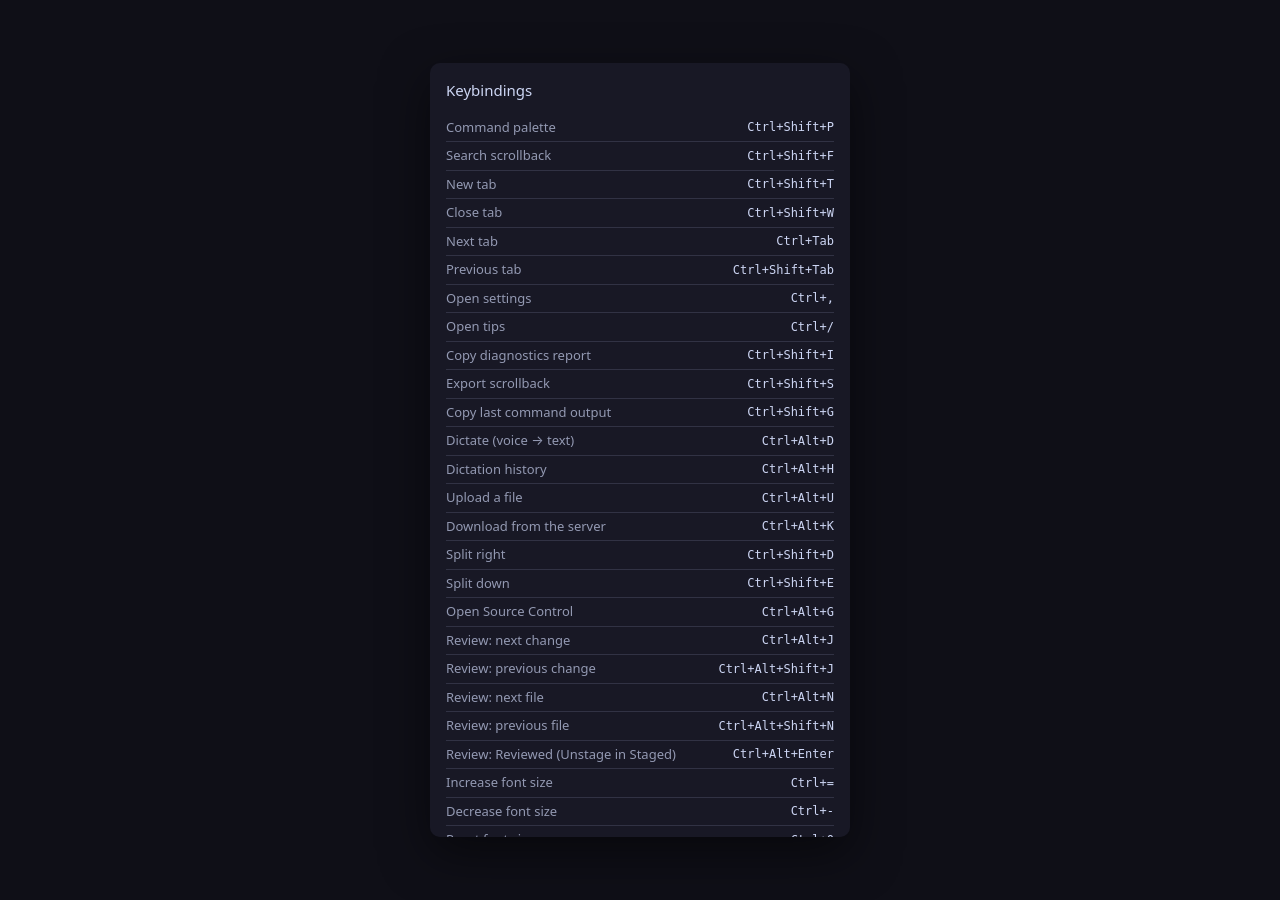
Test case: KeybindingsPanel › rebinds an action to a captured chord and persists it
Click the button with test id "kb-rebind-newTab": [791, 184] box [747,175,834,193]
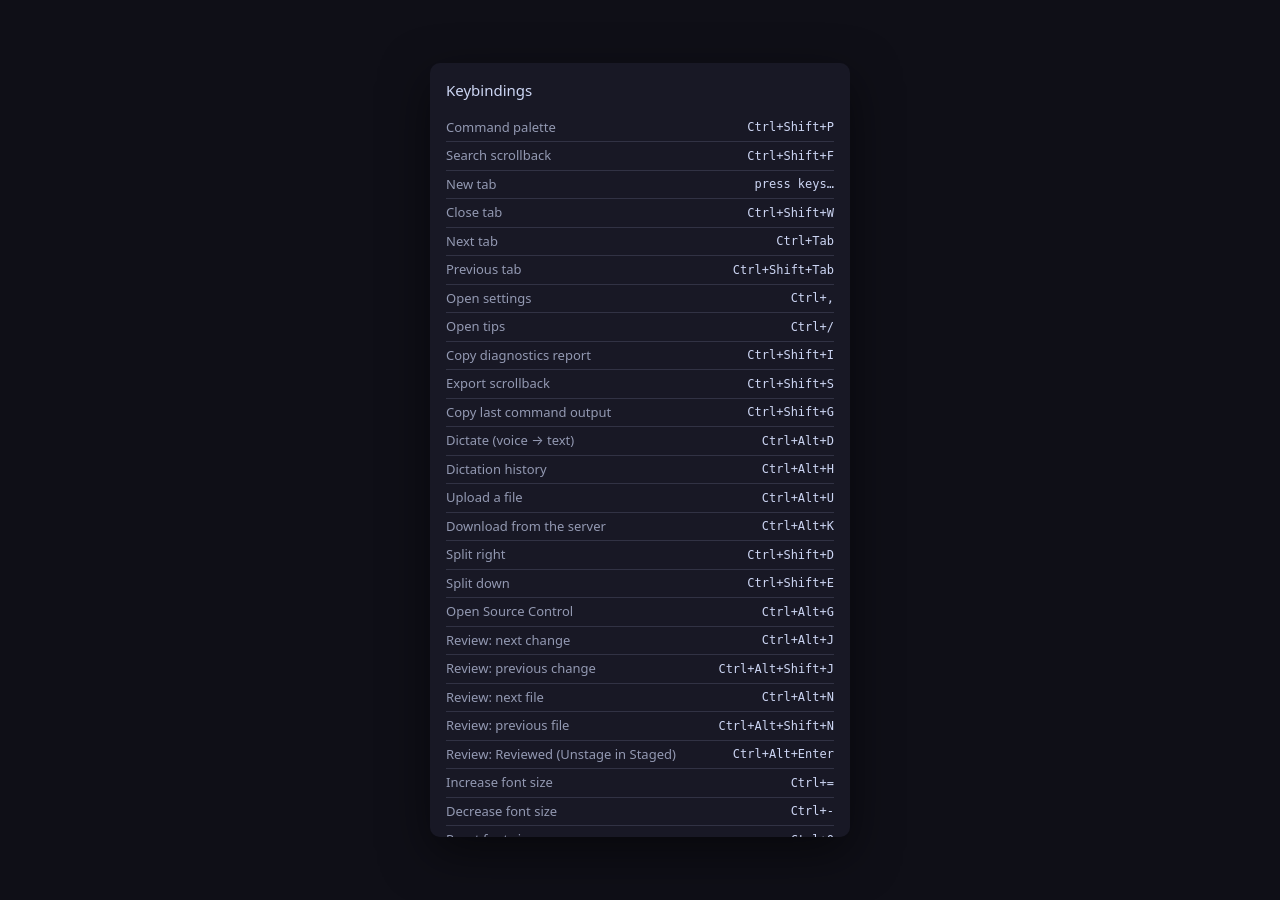
Check: the button with test id "kb-rebind-newTab" reads "press keys…", box [754,175,834,193]
Press y
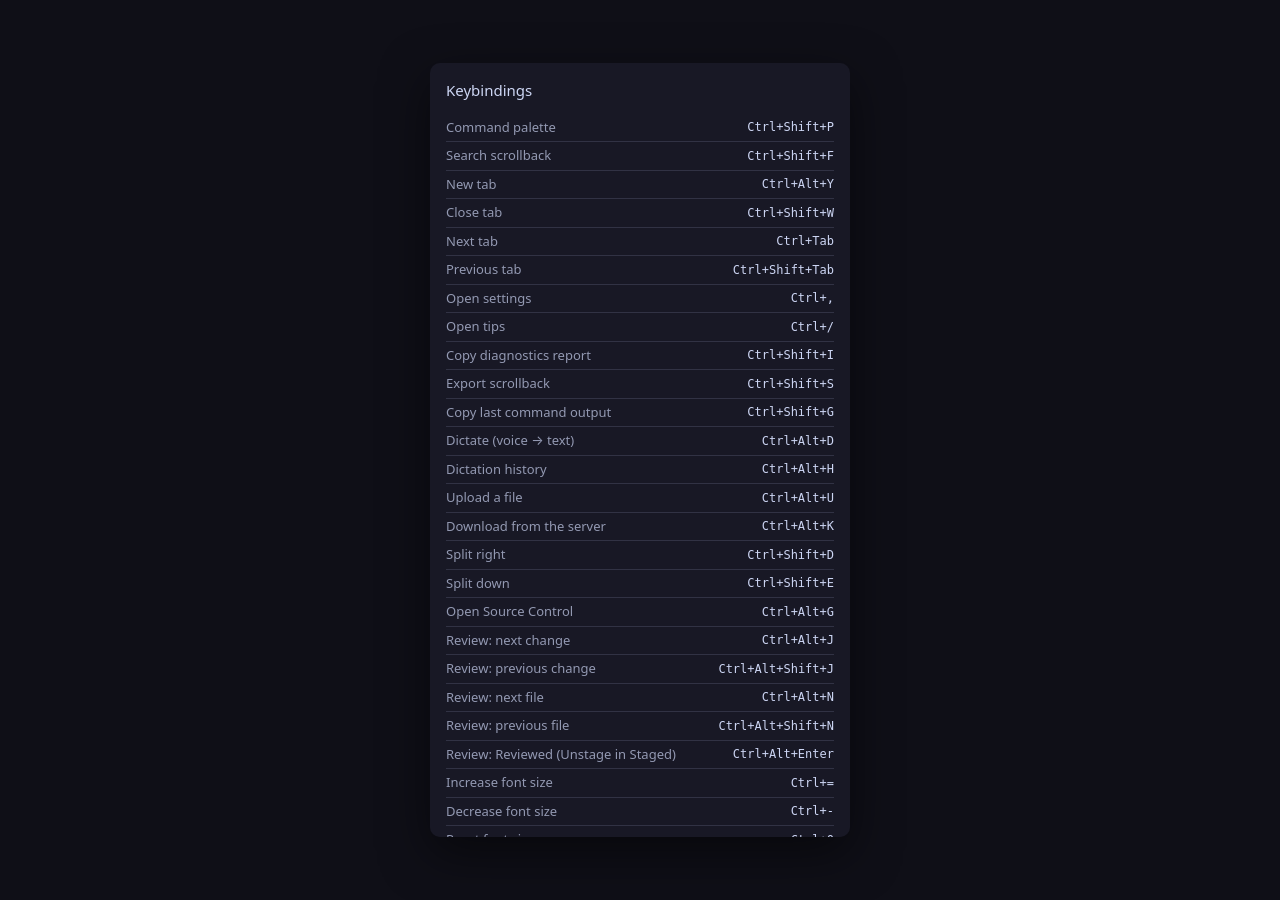
Check: the button with test id "kb-rebind-newTab" reads "Ctrl+Alt+Y", box [762,175,834,193]
